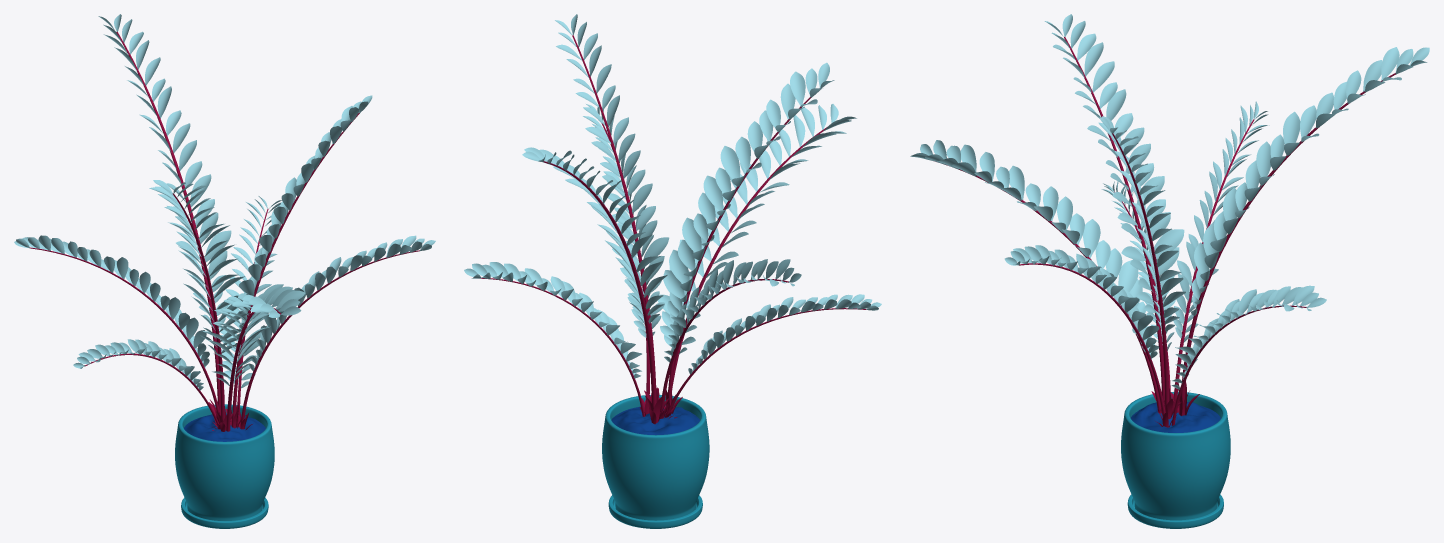
The picture shows the model from 3 angles, left to right: view 1: azimuth 30°, elevation 25°; view 2: azimuth 150°, elevation 25°; view 3: azimuth 270°, elevation 25°; orthographic projection. The views are drawn at different scales.
Parts seen in each view (by area): view 1: cgaxis_plants_02_03, cgaxis_plants_02_01, cgaxis_plants_02_04, cgaxis_plants_02_02; view 2: cgaxis_plants_02_03, cgaxis_plants_02_01, cgaxis_plants_02_04, cgaxis_plants_02_02; view 3: cgaxis_plants_02_03, cgaxis_plants_02_01, cgaxis_plants_02_04, cgaxis_plants_02_02.
Boxes of the visible parts, <box> form: cgaxis_plants_02_03: <box>14,14,435,390</box>; cgaxis_plants_02_01: <box>175,404,274,528</box>; cgaxis_plants_02_04: <box>30,32,419,431</box>; cgaxis_plants_02_02: <box>184,413,265,441</box>; cgaxis_plants_02_03: <box>464,14,881,378</box>; cgaxis_plants_02_01: <box>602,394,709,528</box>; cgaxis_plants_02_04: <box>481,35,866,424</box>; cgaxis_plants_02_02: <box>611,406,699,435</box>; cgaxis_plants_02_03: <box>910,14,1429,389</box>; cgaxis_plants_02_01: <box>1121,392,1230,528</box>; cgaxis_plants_02_04: <box>934,37,1395,427</box>; cgaxis_plants_02_02: <box>1130,402,1220,432</box>.
Size of the model in its own units: 30.04 by 37.52 by 38.68.
